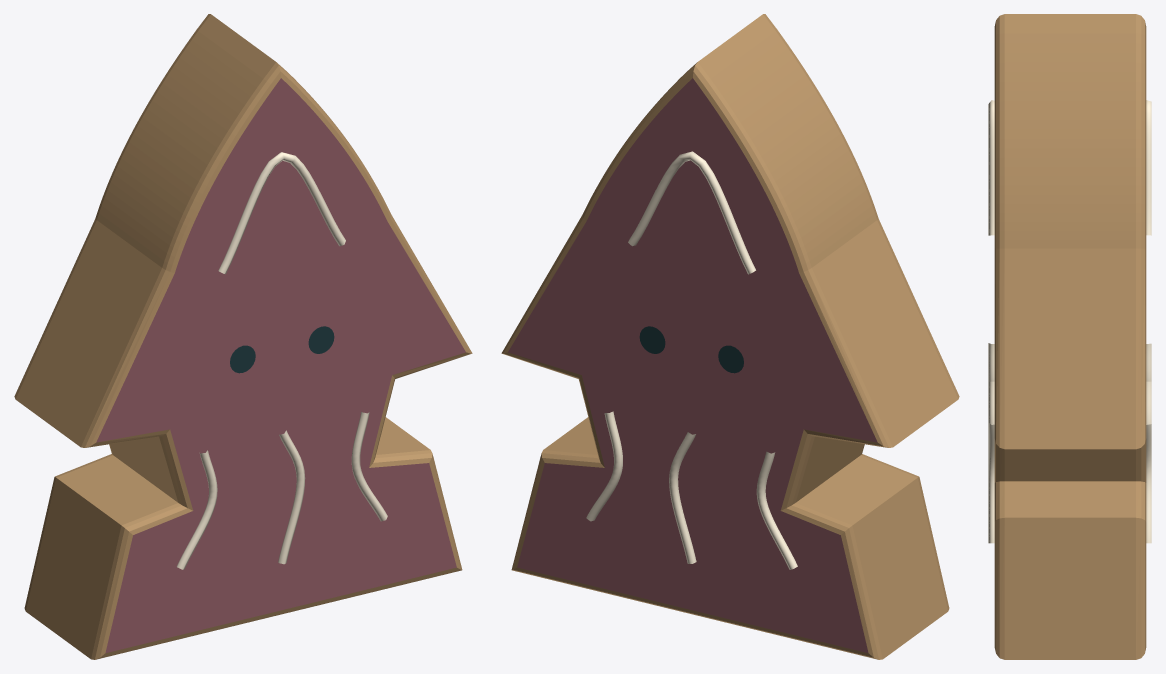
File: meeple-2.glb
The picture shows the model from 3 angles, left to right: view 1: azimuth 30°, elevation 25°; view 2: azimuth 150°, elevation 25°; view 3: azimuth 270°, elevation 25°; orthographic projection.
Visible parts, largest first — view 1: meeple-2-오징어; view 2: meeple-2-오징어; view 3: meeple-2-오징어.
Part boxes in pixels (left/top/right/bottom): meeple-2-오징어: left=14, top=14, right=472, bottom=659; meeple-2-오징어: left=501, top=14, right=959, bottom=659; meeple-2-오징어: left=988, top=14, right=1151, bottom=659.
Size of the model in its own units: 0.0222 by 0.03 by 0.008.
